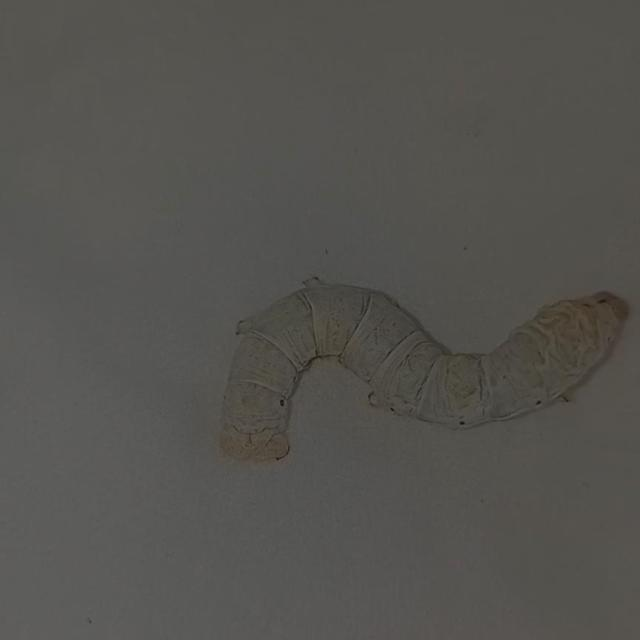Healthy: (196, 254, 640, 492)
